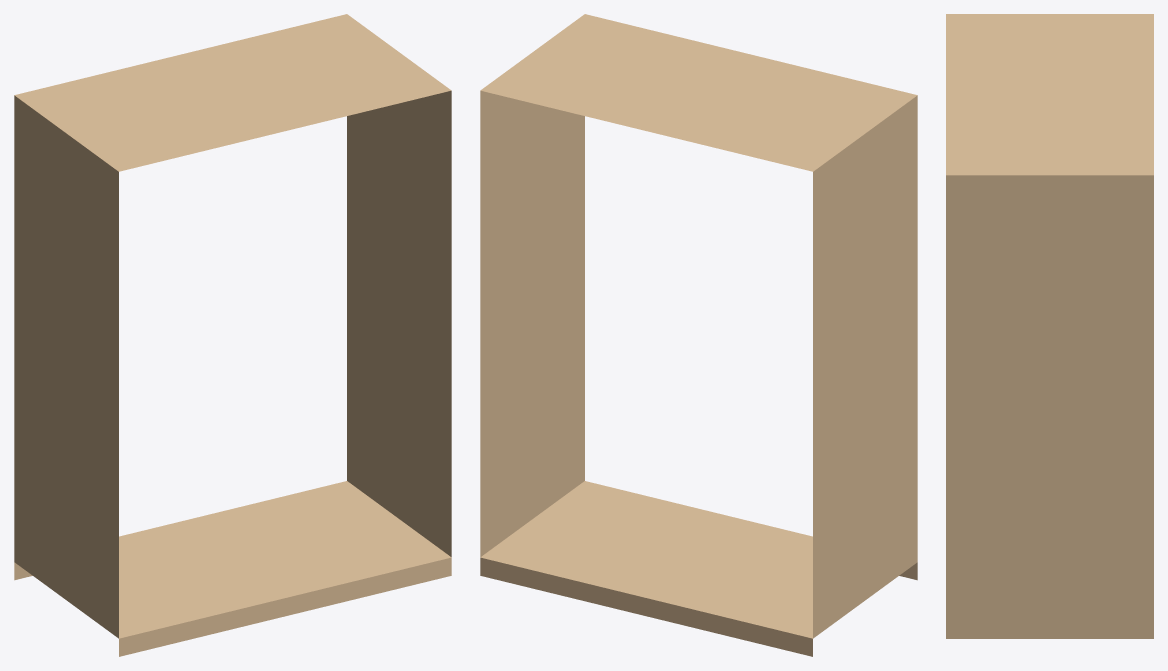
The model's file is WallDoorTransition.fbx.
3 renders of one model, left to right at view 1: azimuth 30°, elevation 25°; view 2: azimuth 150°, elevation 25°; view 3: azimuth 270°, elevation 25°, orthographic.
Parts seen in each view (by area): view 1: Wall_Door01; view 2: Wall_Door01; view 3: Wall_Door01.
Boxes of the visible parts, <box> form: Wall_Door01: <box>14,14,451,656</box>; Wall_Door01: <box>480,14,917,656</box>; Wall_Door01: <box>946,14,1153,638</box>.
Bounding box in the file's own units: 1.68 × 2.34 × 0.9168.
